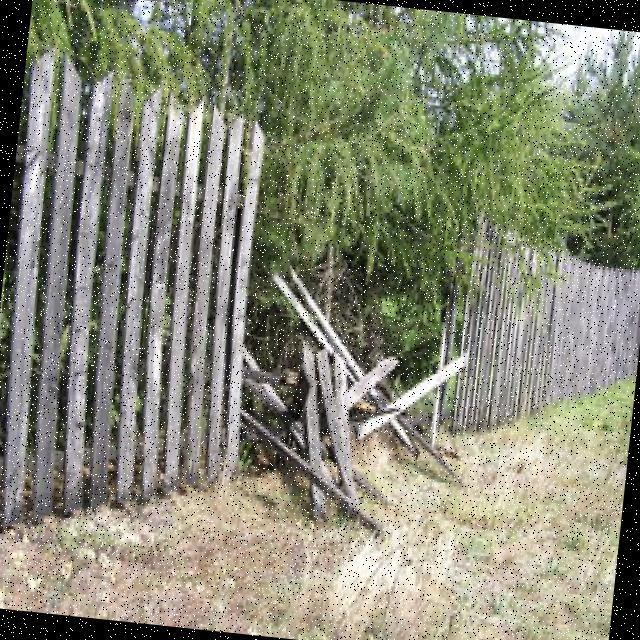fence line: (208, 152, 494, 550), (203, 156, 495, 541)
